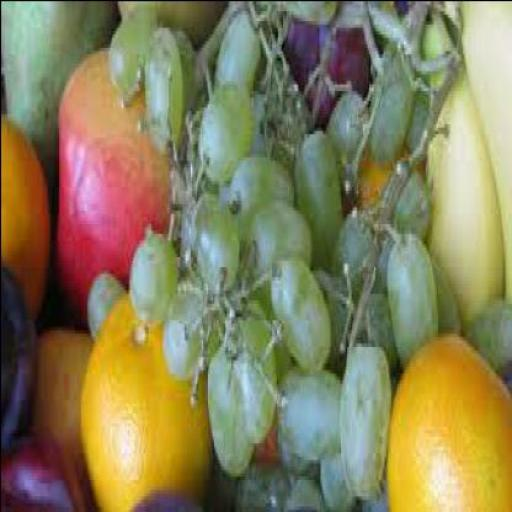biodegradable: (0, 1, 511, 511), (55, 43, 175, 323), (82, 289, 210, 506), (424, 2, 504, 322), (390, 326, 511, 510), (2, 0, 120, 160), (266, 1, 394, 123), (462, 1, 510, 294), (2, 112, 53, 316), (34, 326, 94, 492), (1, 422, 91, 508), (342, 336, 390, 492), (1, 253, 38, 449), (294, 123, 342, 266), (231, 296, 276, 446), (206, 329, 254, 469), (272, 243, 332, 353), (388, 226, 435, 366), (370, 23, 418, 153), (280, 366, 343, 459), (228, 153, 298, 236), (249, 192, 313, 282), (200, 70, 254, 176), (306, 259, 354, 372), (190, 186, 241, 292), (164, 273, 216, 372), (146, 23, 184, 153), (374, 156, 428, 246), (131, 226, 180, 325), (112, 0, 162, 94), (117, 1, 228, 43), (214, 3, 262, 93), (326, 203, 374, 279), (246, 283, 287, 366), (354, 282, 396, 359), (468, 295, 510, 367), (328, 82, 364, 156), (321, 442, 360, 509), (238, 459, 286, 508), (133, 482, 213, 509), (434, 243, 458, 329), (89, 270, 124, 328), (177, 24, 196, 130), (367, 224, 391, 282), (288, 472, 324, 509), (283, 429, 315, 468), (213, 459, 237, 508), (316, 70, 340, 113), (364, 466, 388, 508), (341, 156, 363, 196)
